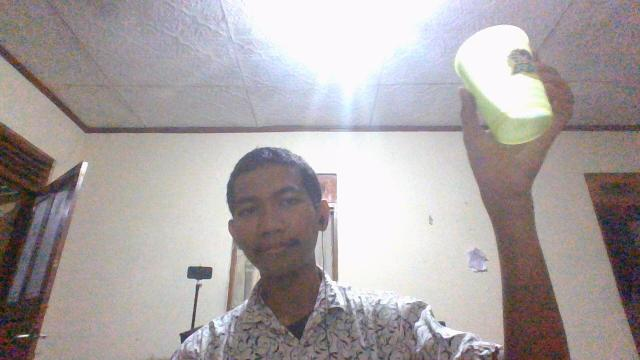botol-hijau: (453, 23, 555, 146)
